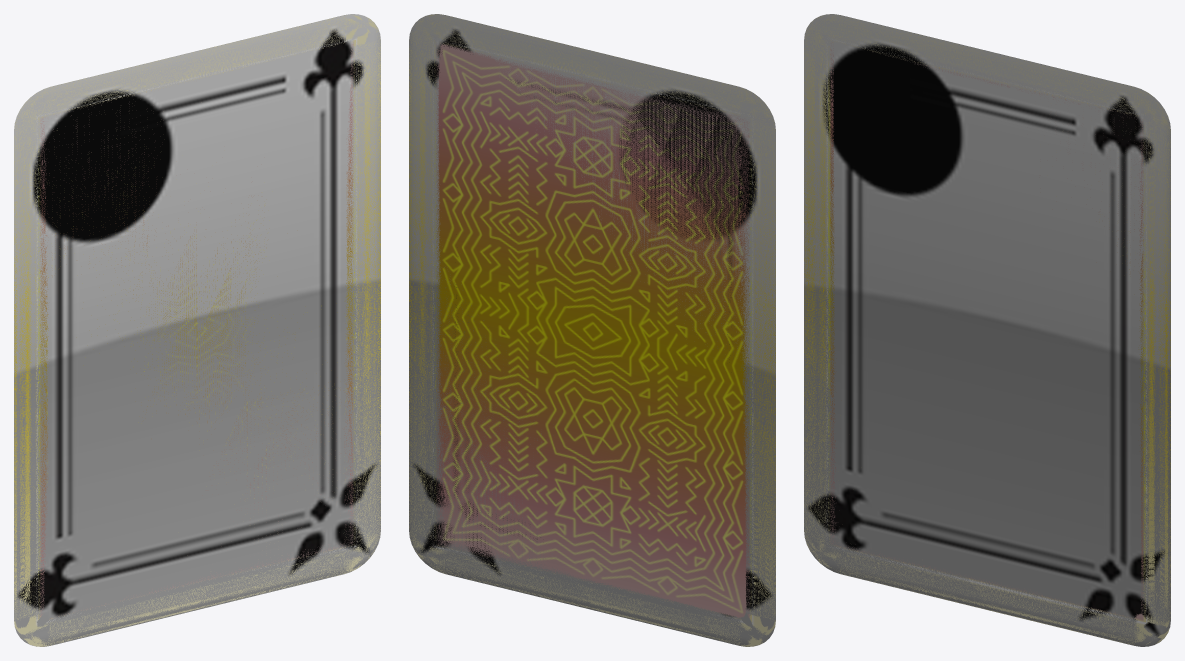
Rendered from card.fbx.
3 renders of one model, left to right at view 1: azimuth 30°, elevation 25°; view 2: azimuth 150°, elevation 25°; view 3: azimuth 330°, elevation 25°, orthographic.
Visible parts, largest first — view 1: Cube; view 2: Cube; view 3: Cube.
Boxes of the visible parts, <box> form: Cube: <box>14,14,380,646</box>; Cube: <box>409,14,775,646</box>; Cube: <box>804,14,1170,646</box>.
Bounding box in the file's own units: 200 × 291 × 3.72e-05.
Materials: 2 (2 with a texture image).
